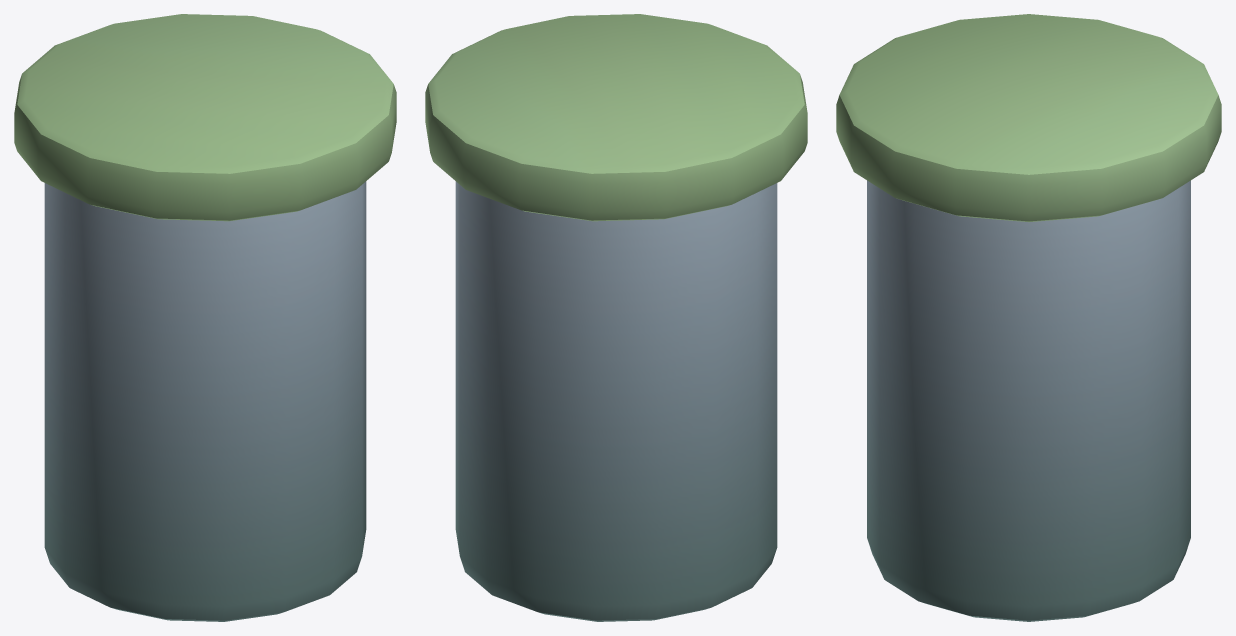
Rendered from sp_jar_kitchen_a.fbx.
The picture shows the model from 3 angles, left to right: view 1: azimuth 30°, elevation 25°; view 2: azimuth 150°, elevation 25°; view 3: azimuth 270°, elevation 25°; orthographic projection.
Visible parts, largest first — view 1: sp_jar_kitchen_a; view 2: sp_jar_kitchen_a; view 3: sp_jar_kitchen_a.
Boxes of the visible parts, box(x1,y1,x2,y2) form: sp_jar_kitchen_a: box(14, 14, 396, 621); sp_jar_kitchen_a: box(425, 14, 807, 621); sp_jar_kitchen_a: box(836, 14, 1221, 621).
Bounding box in the file's own units: 33.05 × 44.53 × 33.05.
